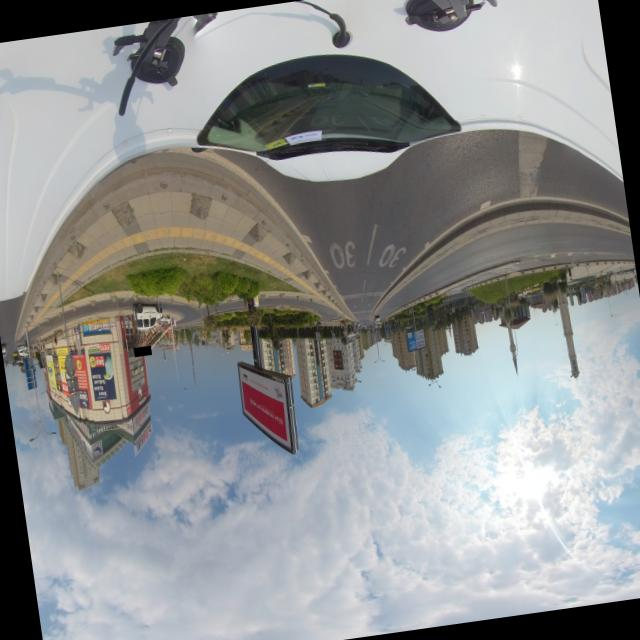SignStore: (132, 345, 151, 356)
